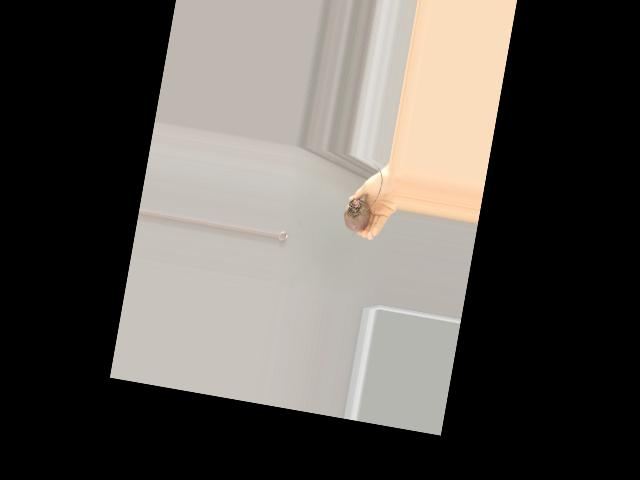beet: (340, 161, 385, 243)
